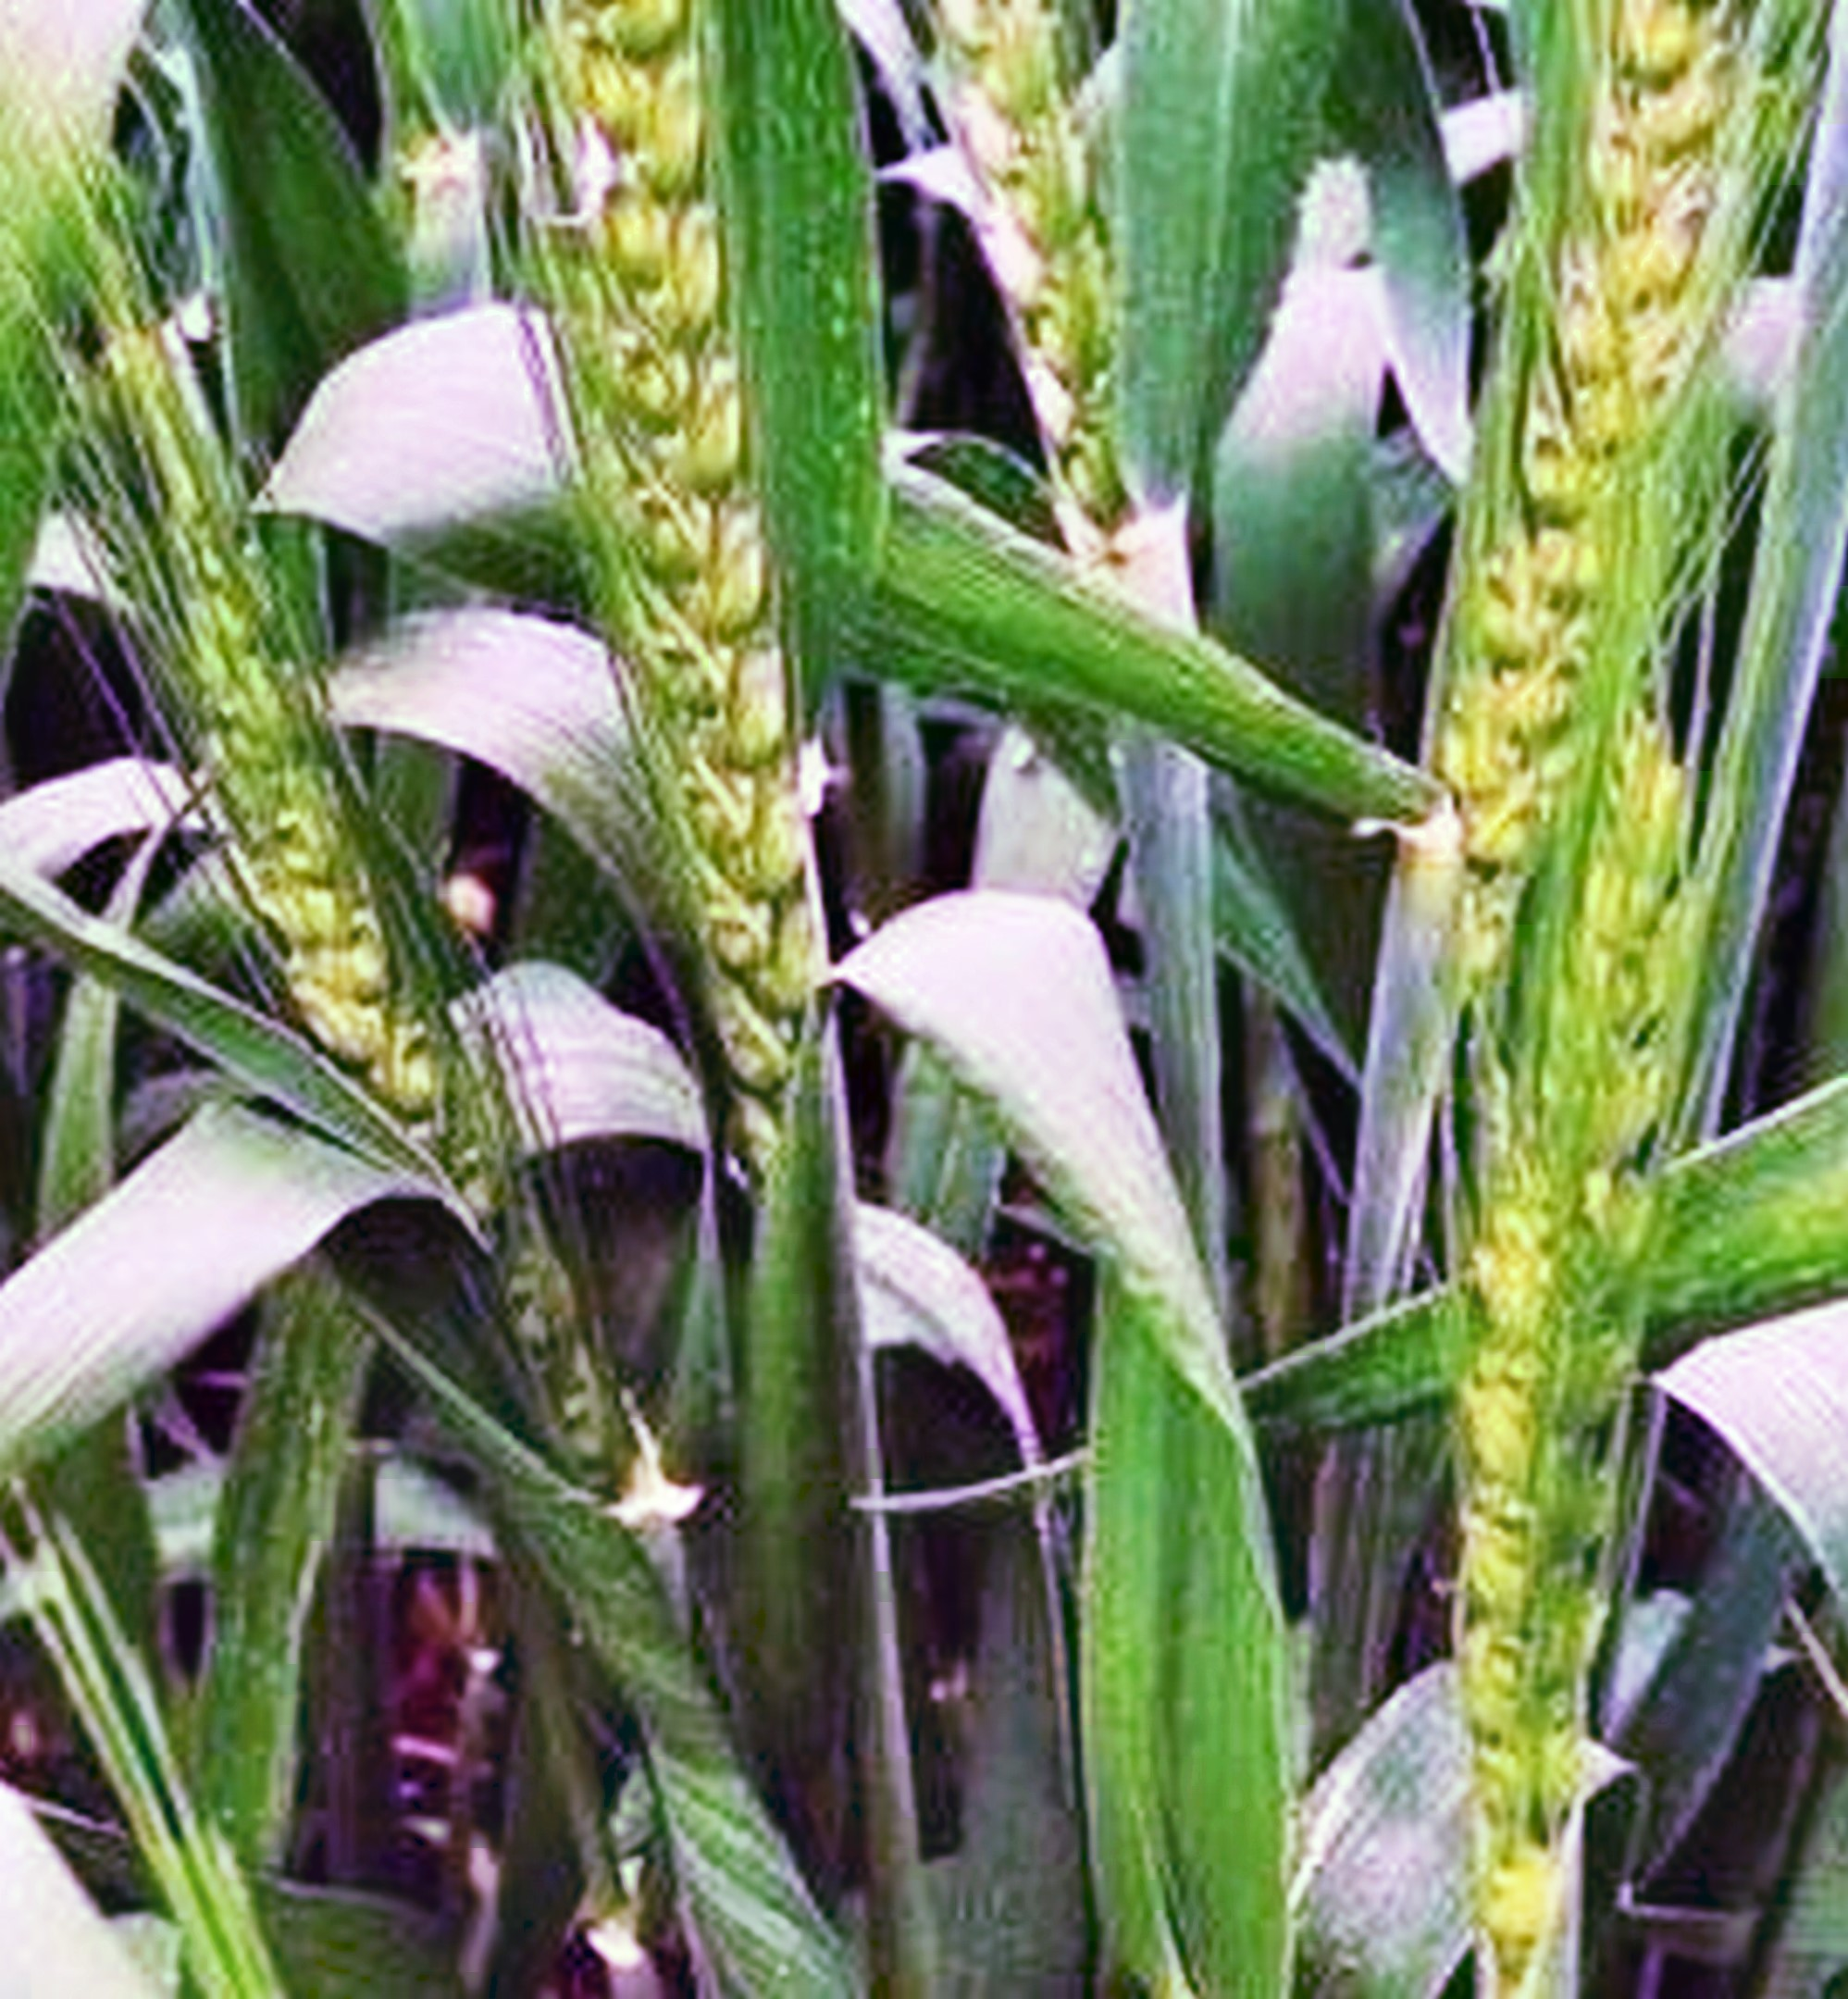Healthy Wheat: (512, 24, 878, 1052)
